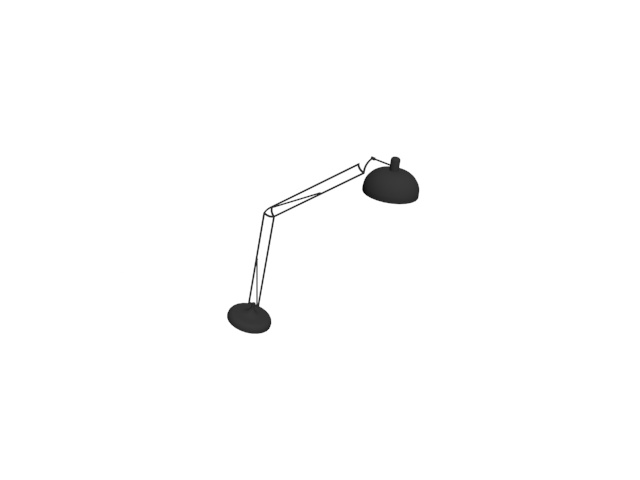desk_lamp: (225, 153, 424, 336)
